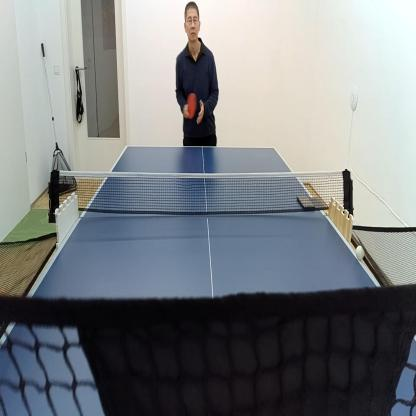Ball: (356, 245, 364, 260)
